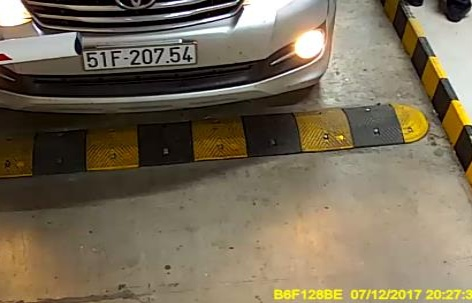plate: (74, 31, 204, 73)
